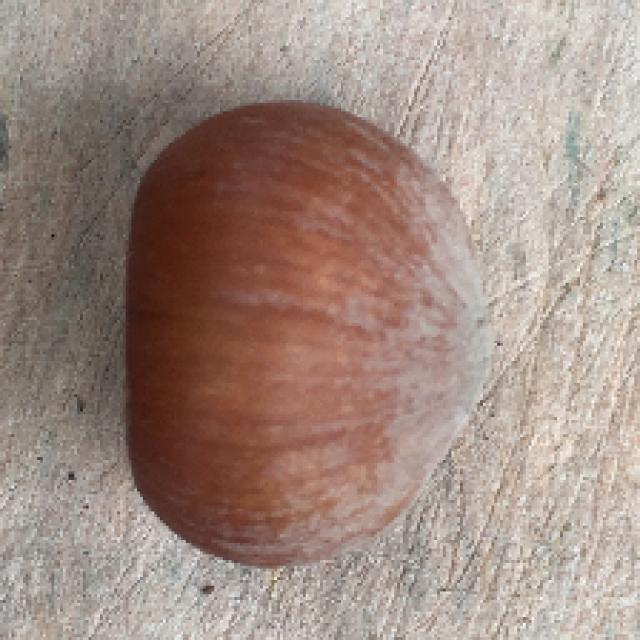qualityHazelnut: (104, 99, 512, 572)
